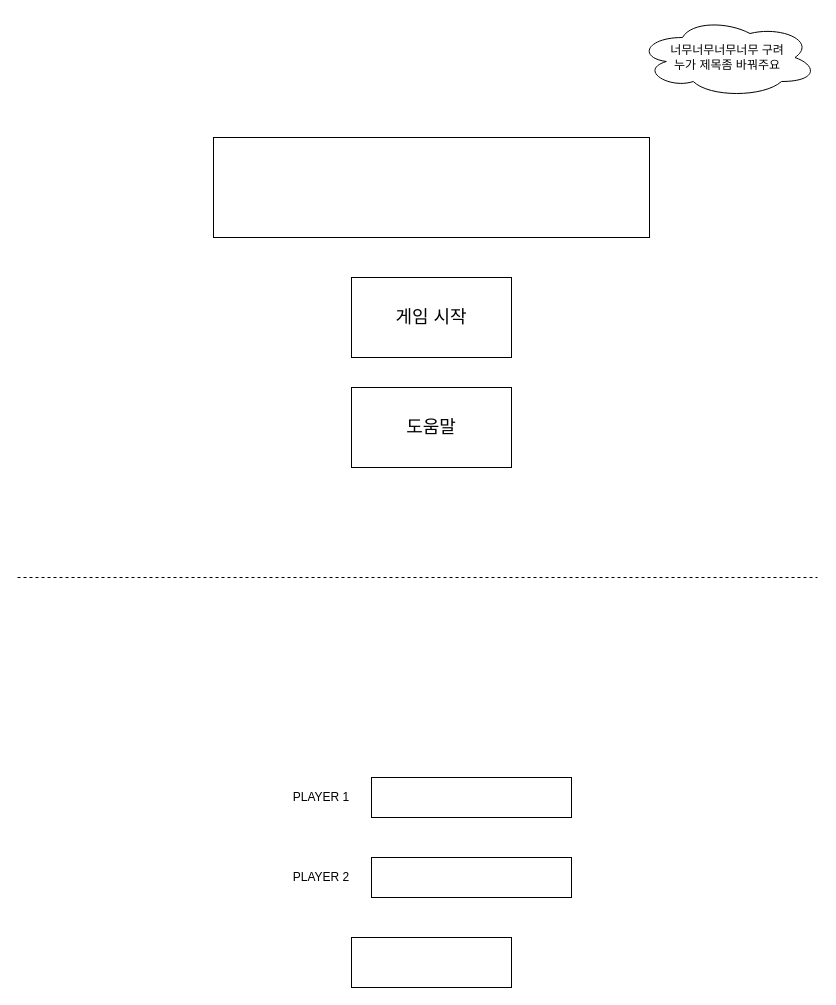
Image size: 836x1005. Some labels were removed from this diagram. The shapes that lost their labels are listed below. From the top down, each one's box as (x1, y1, x2, y2) in pixels, then its label:
(212, 136, 650, 238): 후킹을 통한 사용자 아이디 탈취 게임
(350, 936, 512, 988): 시작
